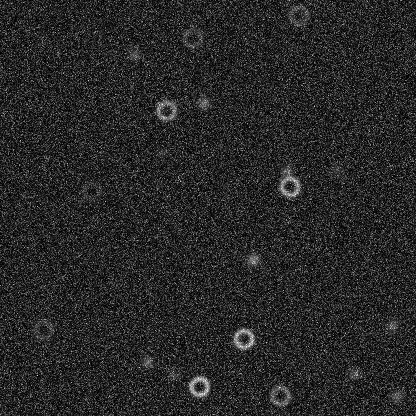Ring: (286, 3, 310, 27), (277, 174, 301, 198), (180, 25, 204, 49), (31, 317, 55, 341), (231, 326, 255, 350), (154, 98, 178, 122), (79, 179, 103, 203), (187, 374, 211, 398), (268, 383, 292, 407)
Spot: (384, 317, 400, 333), (278, 162, 294, 178), (125, 46, 141, 62), (139, 353, 155, 369), (388, 388, 404, 404), (165, 366, 181, 382), (153, 144, 169, 160), (245, 251, 261, 267), (346, 366, 362, 382), (195, 94, 211, 110), (328, 162, 344, 178)
